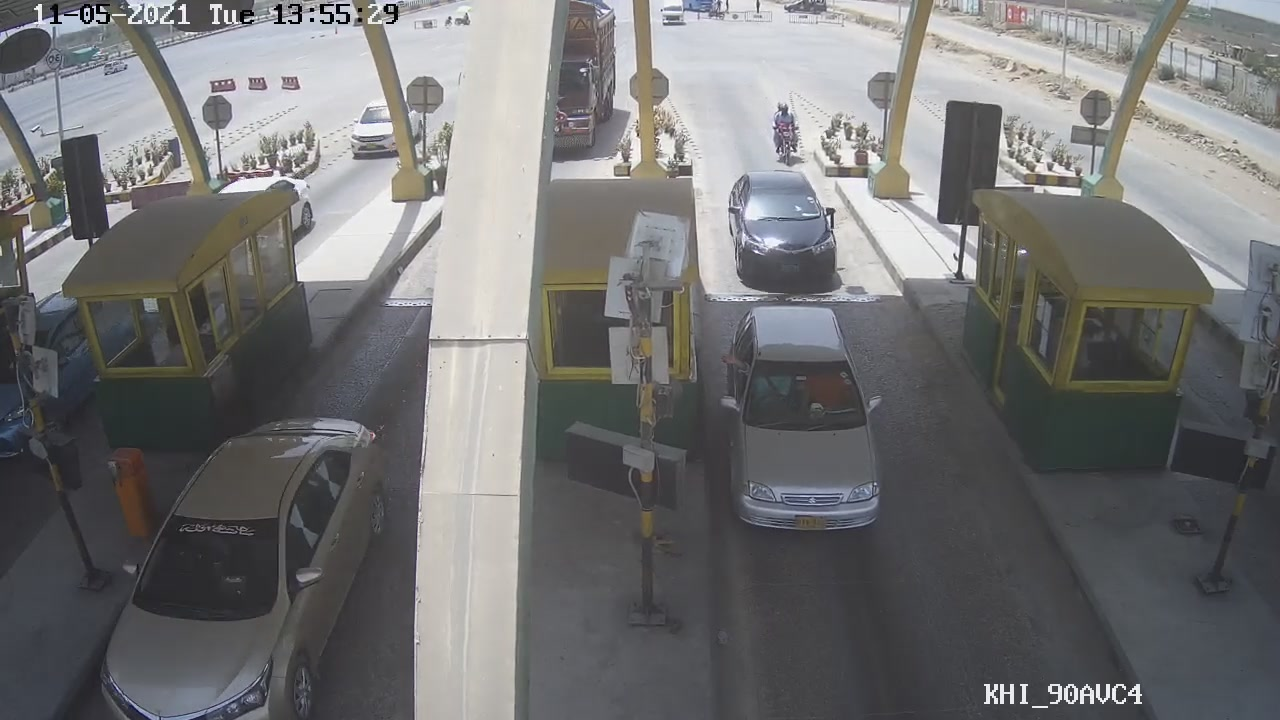F2: (716, 302, 891, 535), (723, 167, 847, 291)
